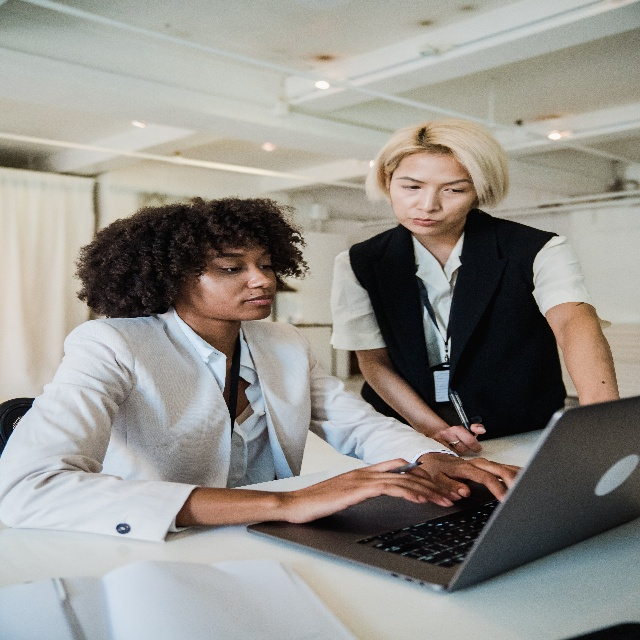Sin_guantes: (281, 458, 464, 525), (419, 452, 527, 502), (431, 420, 486, 456)
